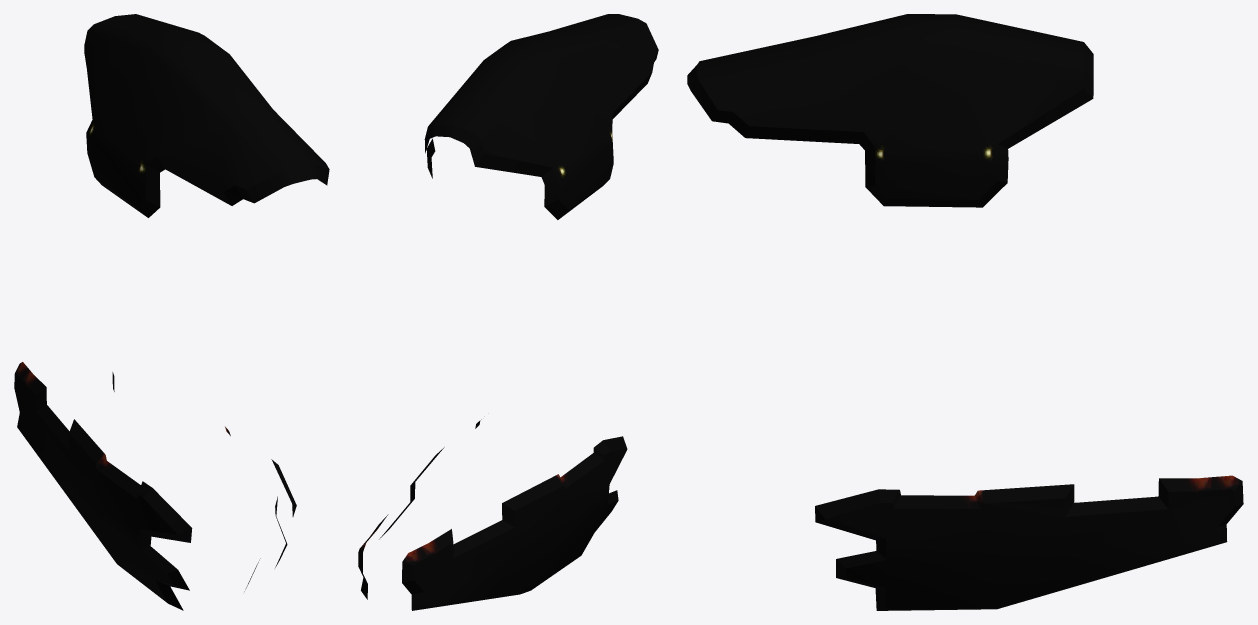
File: yao_defense_platform_01_t1.glb
The picture shows the model from 3 angles, left to right: view 1: azimuth 30°, elevation 25°; view 2: azimuth 150°, elevation 25°; view 3: azimuth 270°, elevation 25°; orthographic projection. The views are drawn at different scales.
Visible parts, largest first — view 1: yao_defense_platform_01_t1_LOD0; view 2: yao_defense_platform_01_t1_LOD0; view 3: yao_defense_platform_01_t1_LOD0.
Boxes of the visible parts, x1,y1,x2,y2 form: yao_defense_platform_01_t1_LOD0: (14,14,329,610); yao_defense_platform_01_t1_LOD0: (358,14,658,610); yao_defense_platform_01_t1_LOD0: (687,14,1243,610).
Size of what is drawn, in the model's own units: 0.7662 by 2.73 by 2.4.
Materials: 1 (1 with a texture image).
